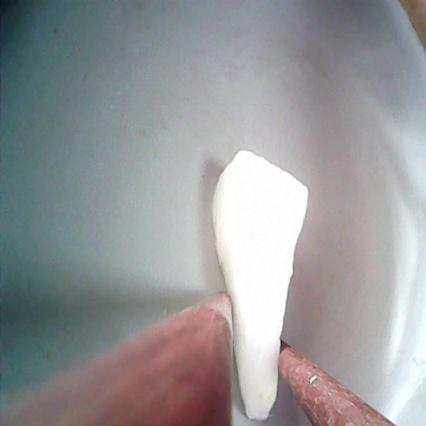white_chinese-yam: (206, 143, 312, 424)
